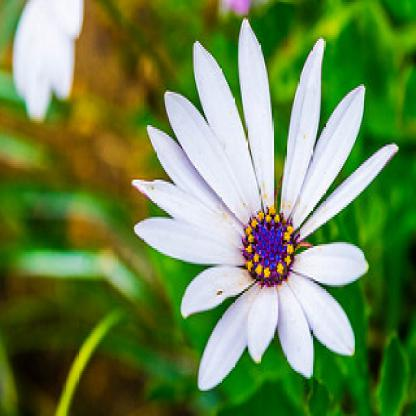ASTER: (116, 19, 411, 402)
